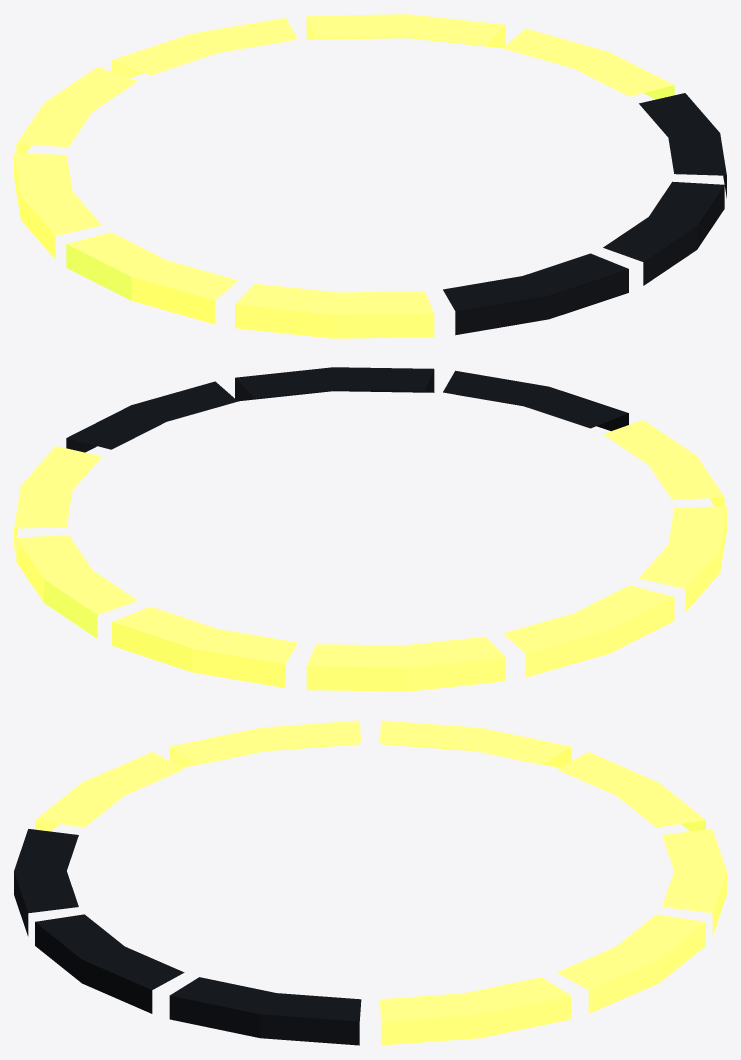
File: hpr_7.glb
3 views of the same model, one above another, from view 1: azimuth 30°, elevation 25°; view 2: azimuth 150°, elevation 25°; view 3: azimuth 270°, elevation 25° (orthographic).
Visible parts, largest first — view 1: hpr_7; view 2: hpr_7; view 3: hpr_7.
Boxes of the visible parts, left/top/right/bottom form: hpr_7: left=14, top=14, right=726, bottom=338; hpr_7: left=14, top=367, right=726, bottom=691; hpr_7: left=14, top=720, right=726, bottom=1045.
Size of the model in its own units: 2.16 by 0.08 by 2.16.
